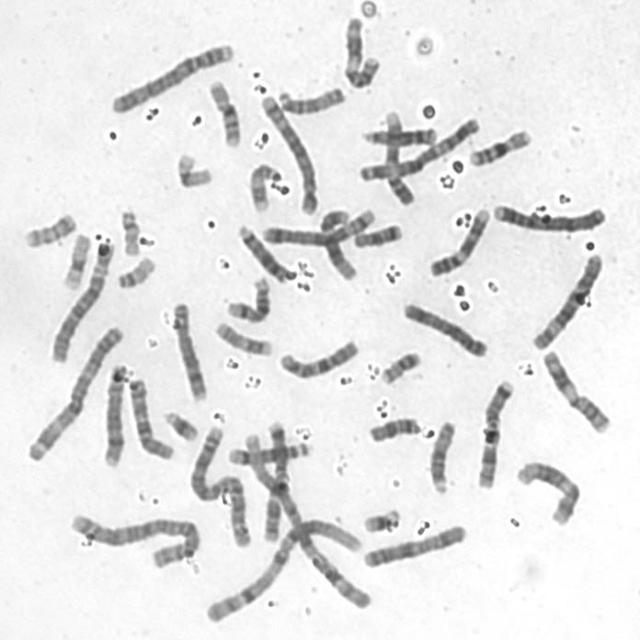A1: (233, 423, 373, 614), (198, 512, 367, 626)
A2: (185, 419, 255, 549), (63, 506, 203, 569)
A3: (19, 317, 127, 463), (353, 110, 484, 183)
B4: (105, 36, 235, 116), (486, 196, 609, 235)
B5: (255, 88, 321, 216), (256, 202, 378, 248)
C10: (122, 372, 177, 462), (272, 333, 362, 381)
C11: (536, 343, 613, 435), (337, 9, 382, 90)
C12: (509, 454, 582, 528), (314, 202, 359, 282)
C6: (44, 234, 117, 365), (526, 246, 606, 352)
C7: (470, 372, 517, 490), (258, 414, 292, 546)
C8: (166, 294, 210, 404), (95, 357, 132, 469)
C9: (423, 201, 492, 278), (378, 102, 417, 208)
D13: (232, 218, 296, 284), (357, 122, 438, 146)
D14: (222, 437, 312, 468), (221, 270, 272, 324)
D15: (422, 414, 458, 497), (271, 79, 347, 116)
E16: (463, 123, 534, 168), (202, 73, 244, 149)
E17: (209, 316, 275, 358), (243, 158, 286, 214)
E18: (362, 409, 423, 445), (348, 217, 404, 250)
F19: (56, 227, 93, 292), (170, 146, 215, 190)
F20: (18, 206, 79, 249), (373, 344, 424, 386)
G21: (356, 501, 404, 536), (158, 405, 201, 443)
G22: (111, 250, 158, 290), (115, 202, 142, 258)
X: (397, 295, 490, 360), (357, 518, 469, 570)
